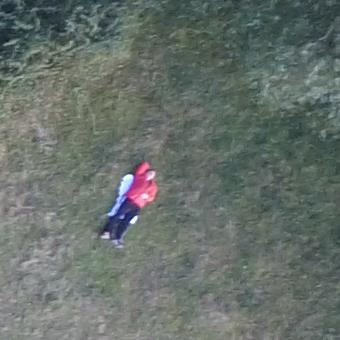human: (101, 162, 159, 243)
